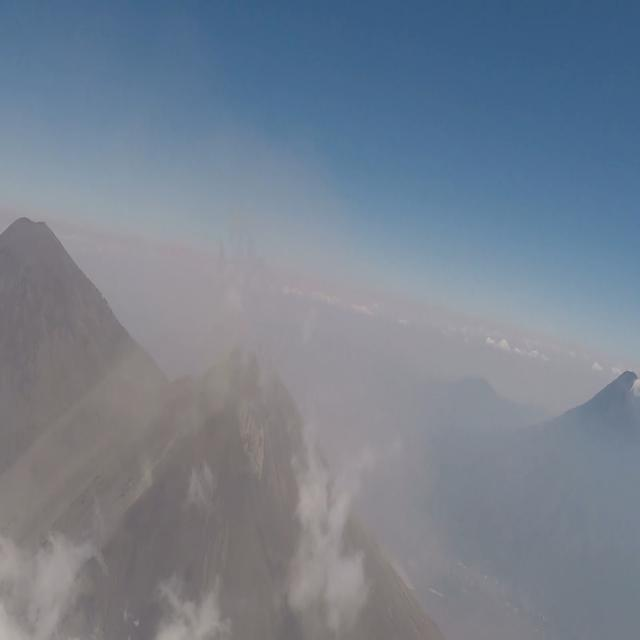Summit: (164, 342, 318, 477)
